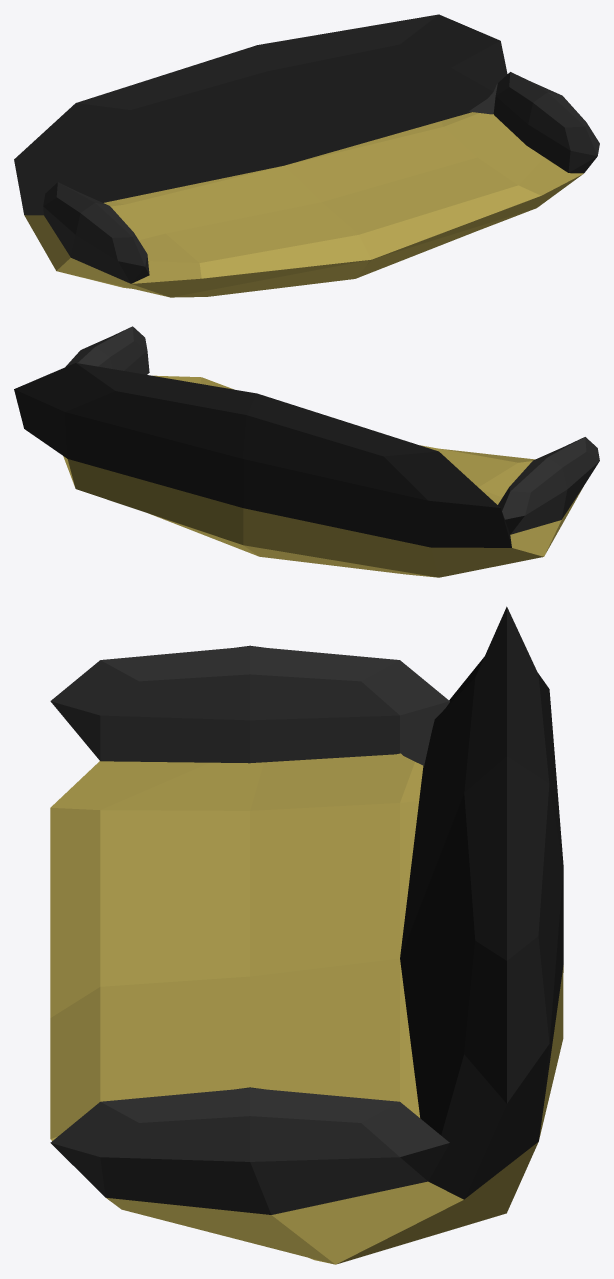
File: sofa.fbx
The picture shows the model from 3 angles, top to bottom: view 1: azimuth 30°, elevation 25°; view 2: azimuth 150°, elevation 25°; view 3: azimuth 270°, elevation 25°; orthographic projection. The views are drawn at different scales.
Visible parts, largest first — view 1: sandalan, upuan, hawakan; view 2: sandalan, upuan, hawakan; view 3: upuan, hawakan, sandalan.
Part boxes in pixels (x1=…): sandalan: x1=14, y1=14, x2=507, y2=215; upuan: x1=24, y1=112, x2=583, y2=297; hawakan: x1=43, y1=72, x2=599, y2=283; sandalan: x1=14, y1=363, x2=511, y2=547; upuan: x1=63, y1=375, x2=582, y2=577; hawakan: x1=65, y1=326, x2=599, y2=534; upuan: x1=50, y1=753, x2=563, y2=1264; hawakan: x1=50, y1=645, x2=449, y2=1214; sandalan: x1=400, y1=606, x2=563, y2=1199.
Bounding box in the file's own units: 684 × 229 × 309.
